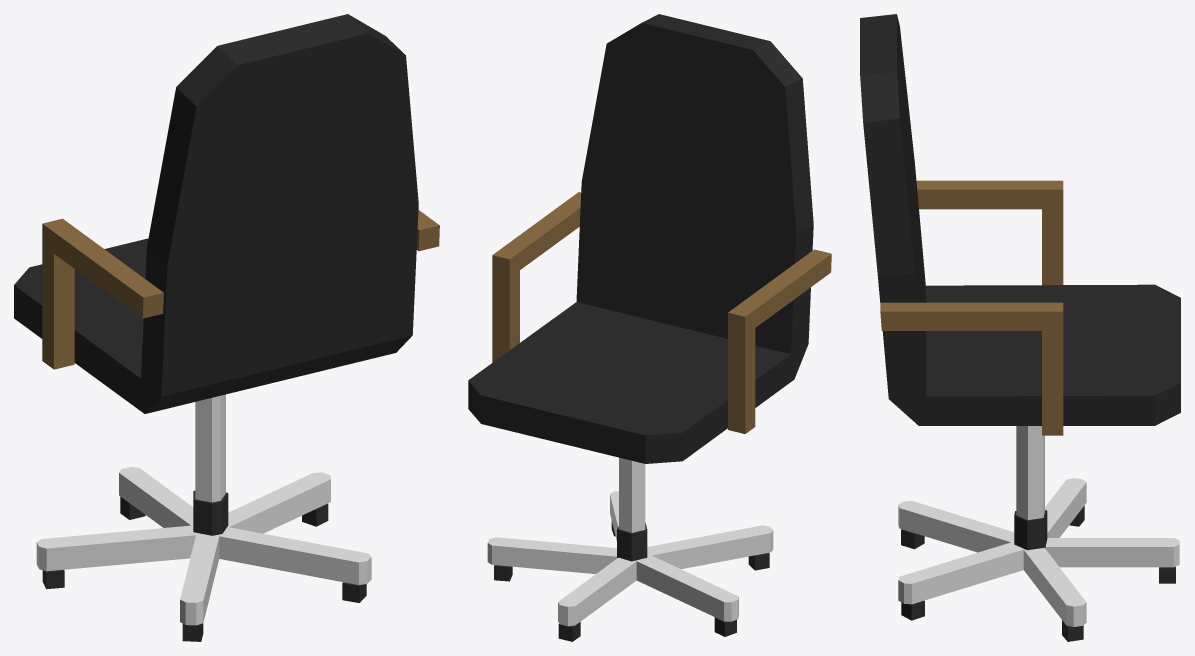
The model's file is Armchair.fbx.
The picture shows the model from 3 angles, left to right: view 1: azimuth 30°, elevation 25°; view 2: azimuth 150°, elevation 25°; view 3: azimuth 270°, elevation 25°; orthographic projection. The views are drawn at different scales.
Parts seen in each view (by area): view 1: Armchair; view 2: Armchair; view 3: Armchair.
Boxes of the visible parts, x1,y1,x2,y2 form: Armchair: (14,14,439,641); Armchair: (468,14,831,641); Armchair: (860,14,1180,641).
Bounding box in the file's own units: 1716 × 3287 × 1779.
